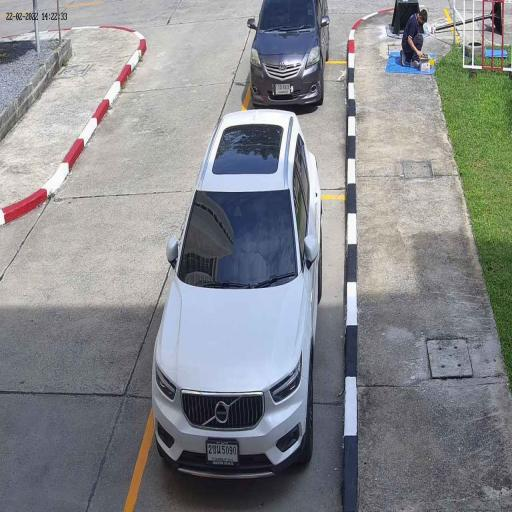car: (149, 107, 325, 487), (247, 0, 333, 109)
